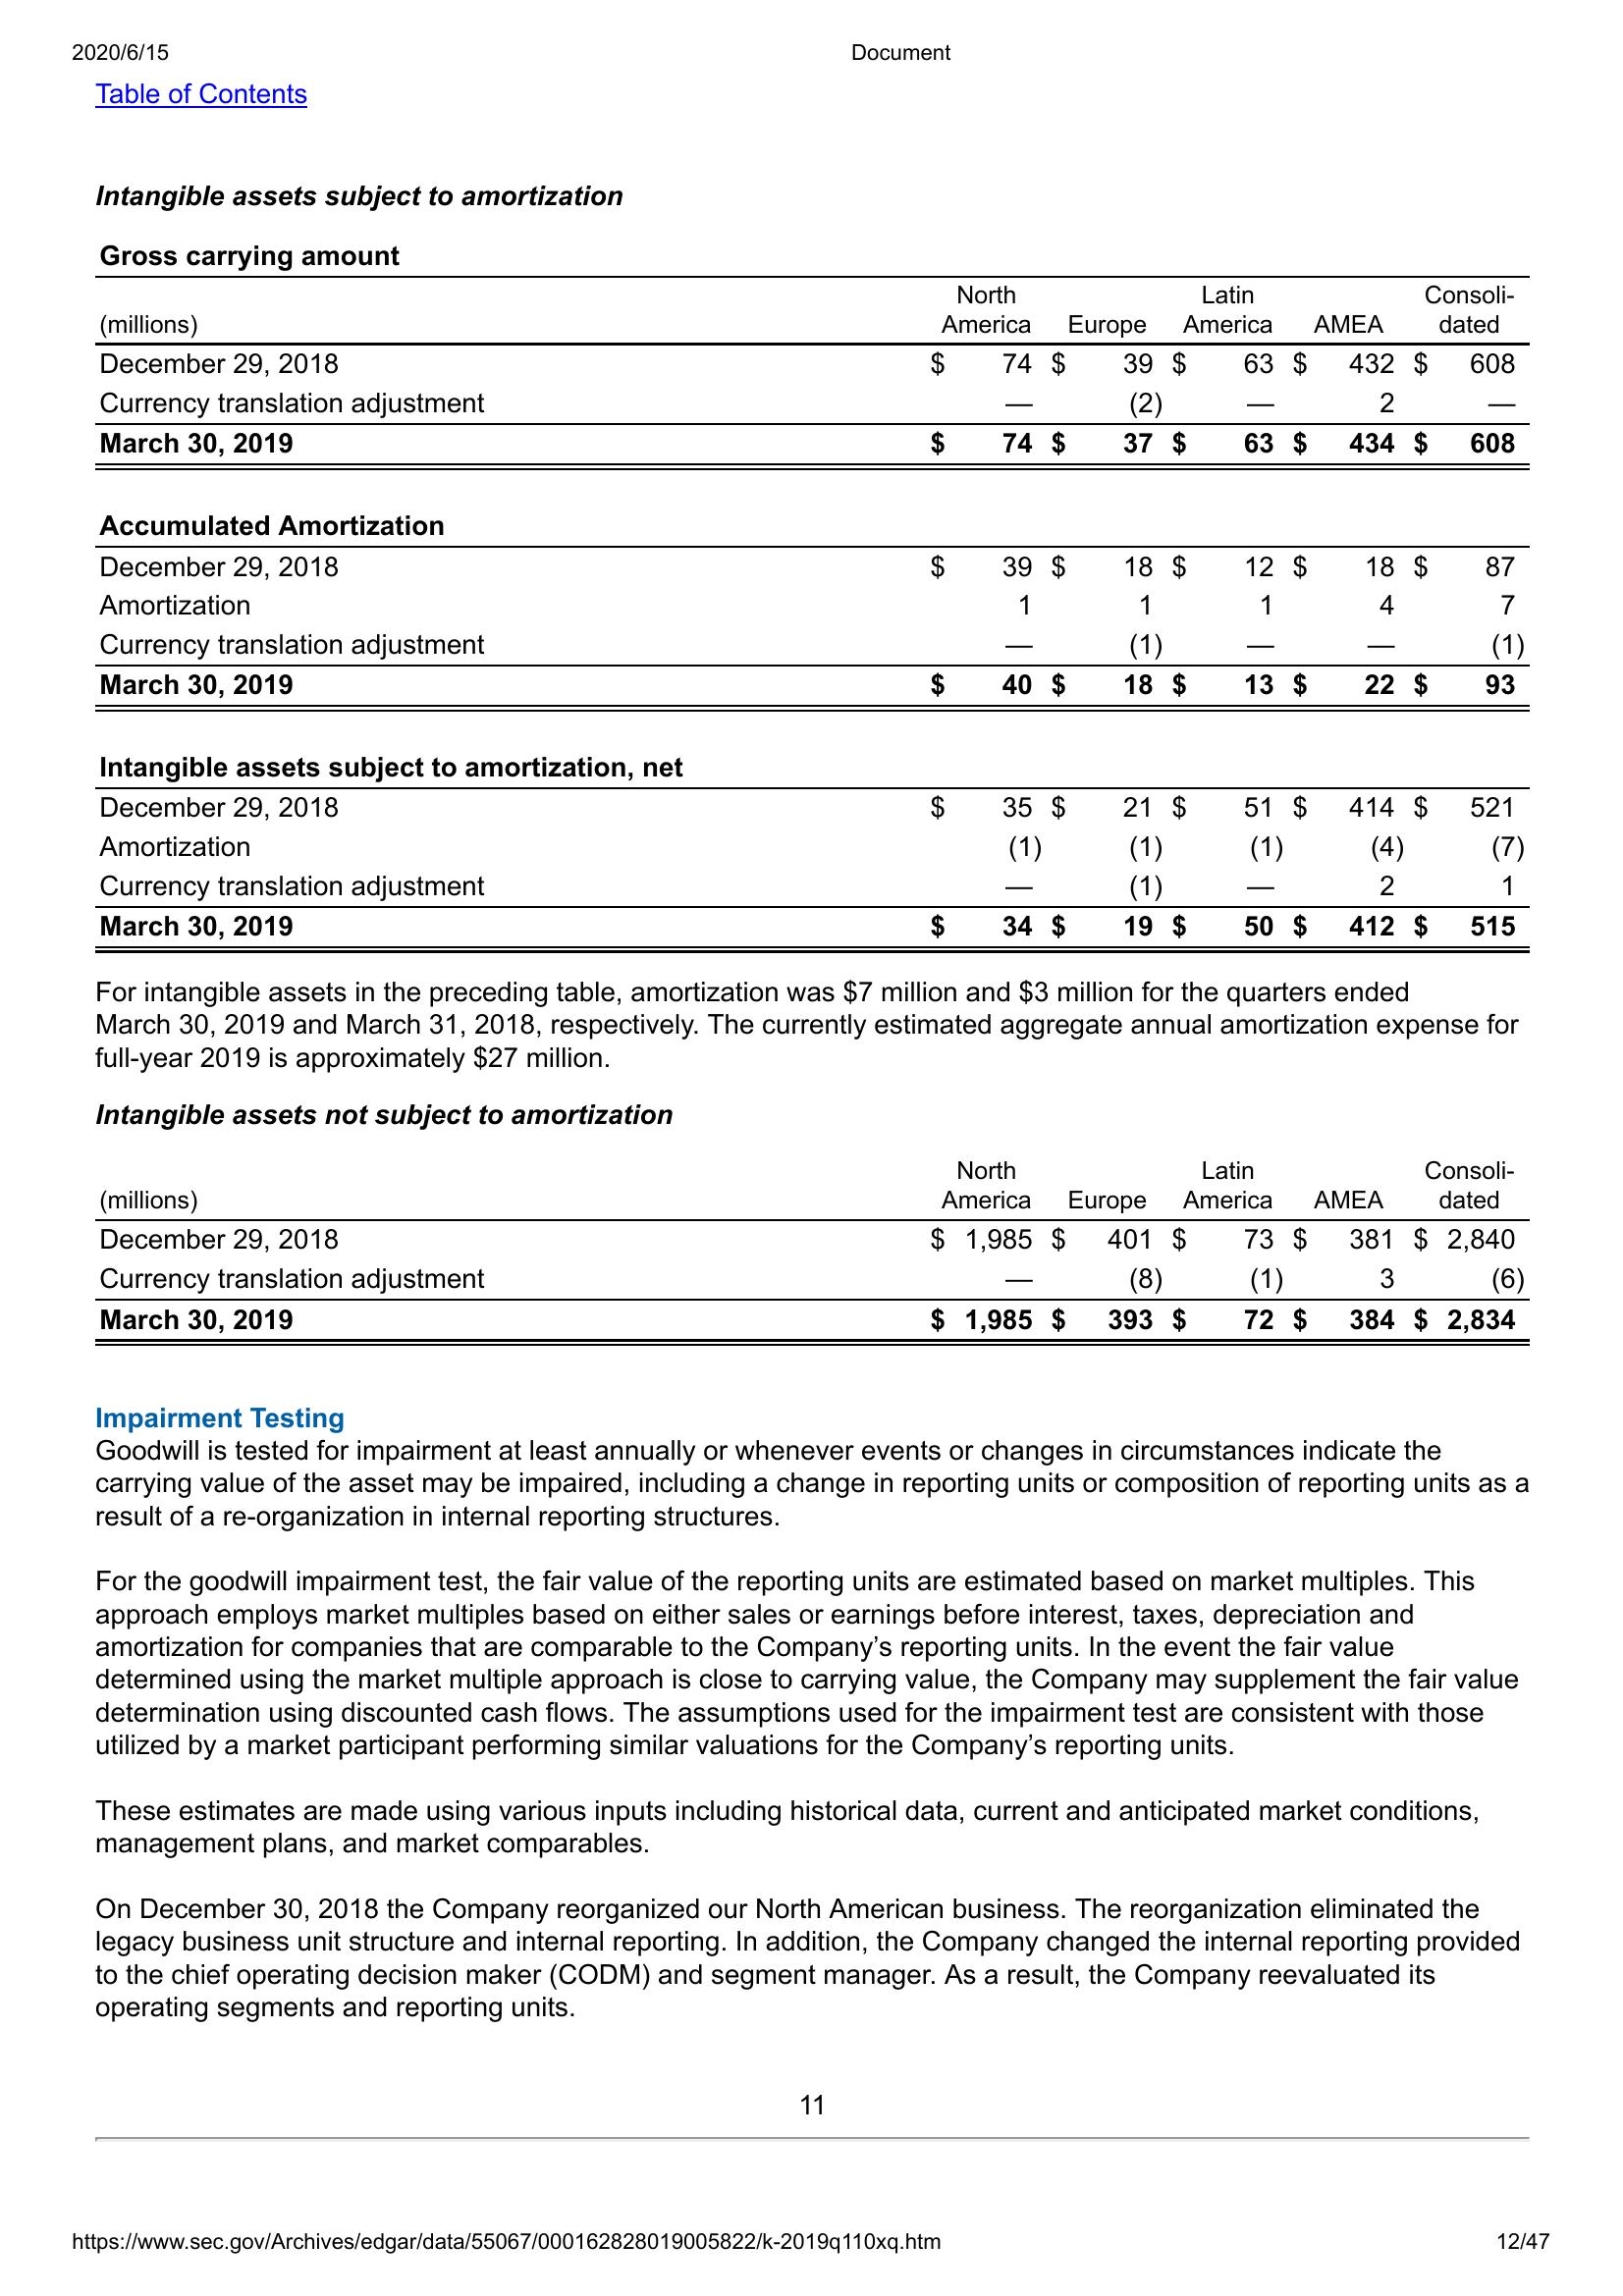table: (95, 242, 1542, 479), (95, 507, 1539, 720), (95, 757, 1537, 960), (90, 1155, 1539, 1357)
